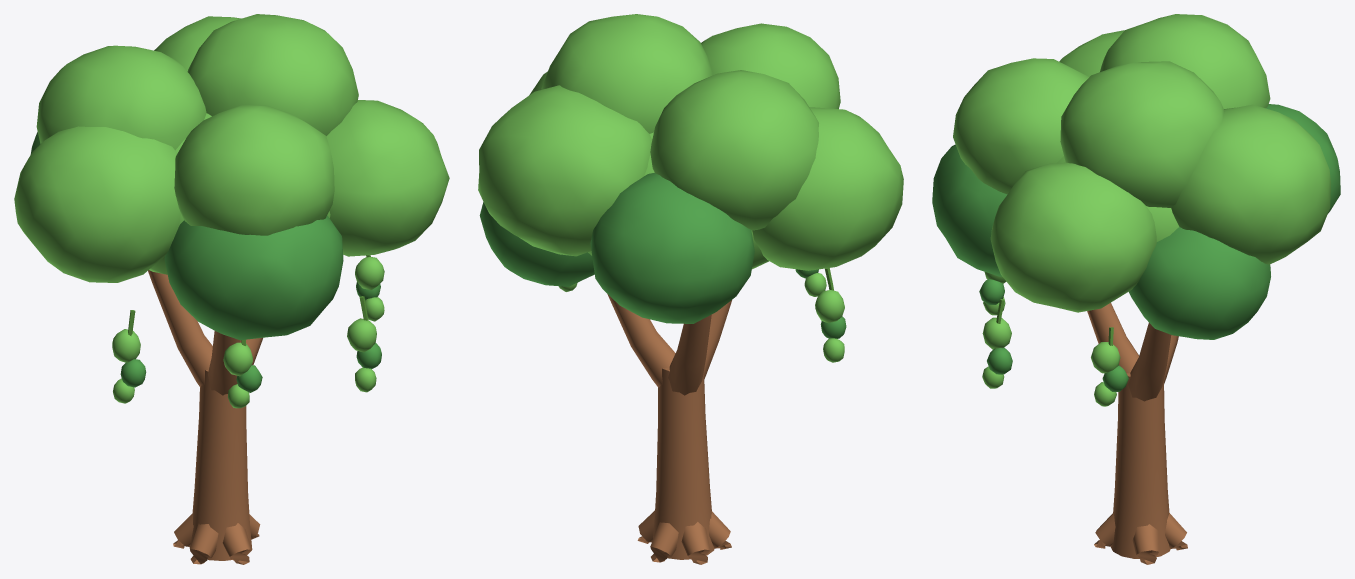
Rendered from prop_tree_giant.glb.
The picture shows the model from 3 angles, left to right: view 1: azimuth 30°, elevation 25°; view 2: azimuth 150°, elevation 25°; view 3: azimuth 270°, elevation 25°; orthographic projection. The views are drawn at different scales.
Visible parts, largest first — view 1: prop_tree_giant; view 2: prop_tree_giant; view 3: prop_tree_giant.
Part boxes in pixels (x1,y1,x2,y2): prop_tree_giant: [14, 14, 449, 564]; prop_tree_giant: [478, 14, 903, 564]; prop_tree_giant: [932, 14, 1340, 564].
Bounding box in the file's own units: 5.82 × 7.45 × 5.49.
